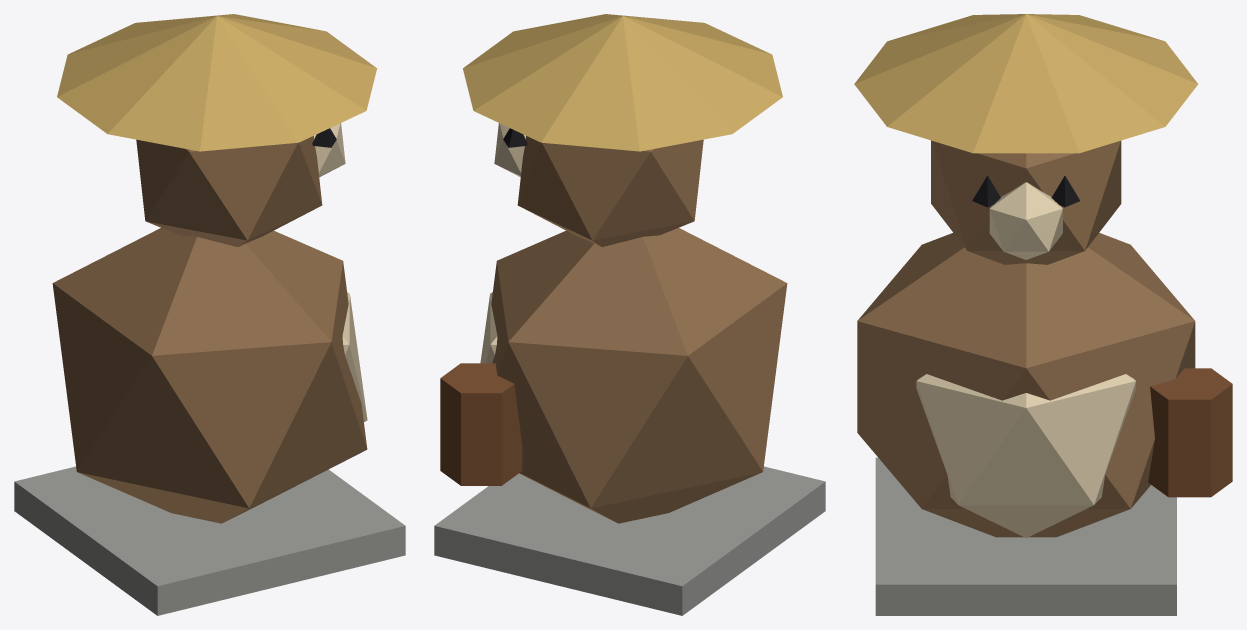
File: tanuki.glb
The picture shows the model from 3 angles, left to right: view 1: azimuth 30°, elevation 25°; view 2: azimuth 150°, elevation 25°; view 3: azimuth 270°, elevation 25°; orthographic projection. The views are drawn at different scales.
Visible parts, largest first — view 1: tanuki; view 2: tanuki; view 3: tanuki.
Part boxes in pixels (x1,y1,x2,y2): tanuki: [14, 14, 405, 615]; tanuki: [434, 14, 825, 615]; tanuki: [854, 14, 1232, 615].
Bounding box in the file's own units: 0.7761 × 1.39 × 0.88.
